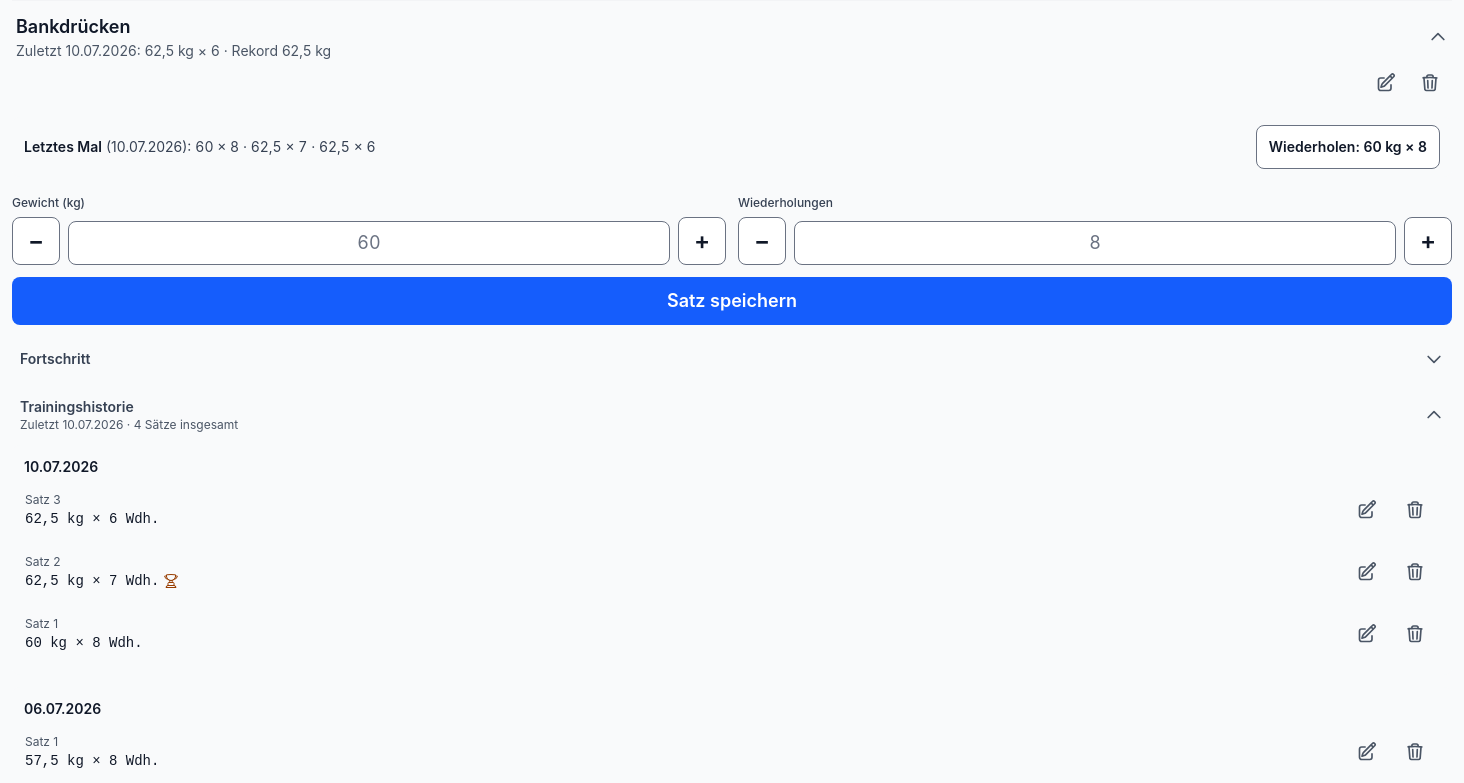
Test: records and rest timer after saving › celebrates a new record and marks it in the history
The width and height of the screenshot is (1464, 783).
In the field with id "weight-bench": (369, 243) [68,221,670,265], type "65"
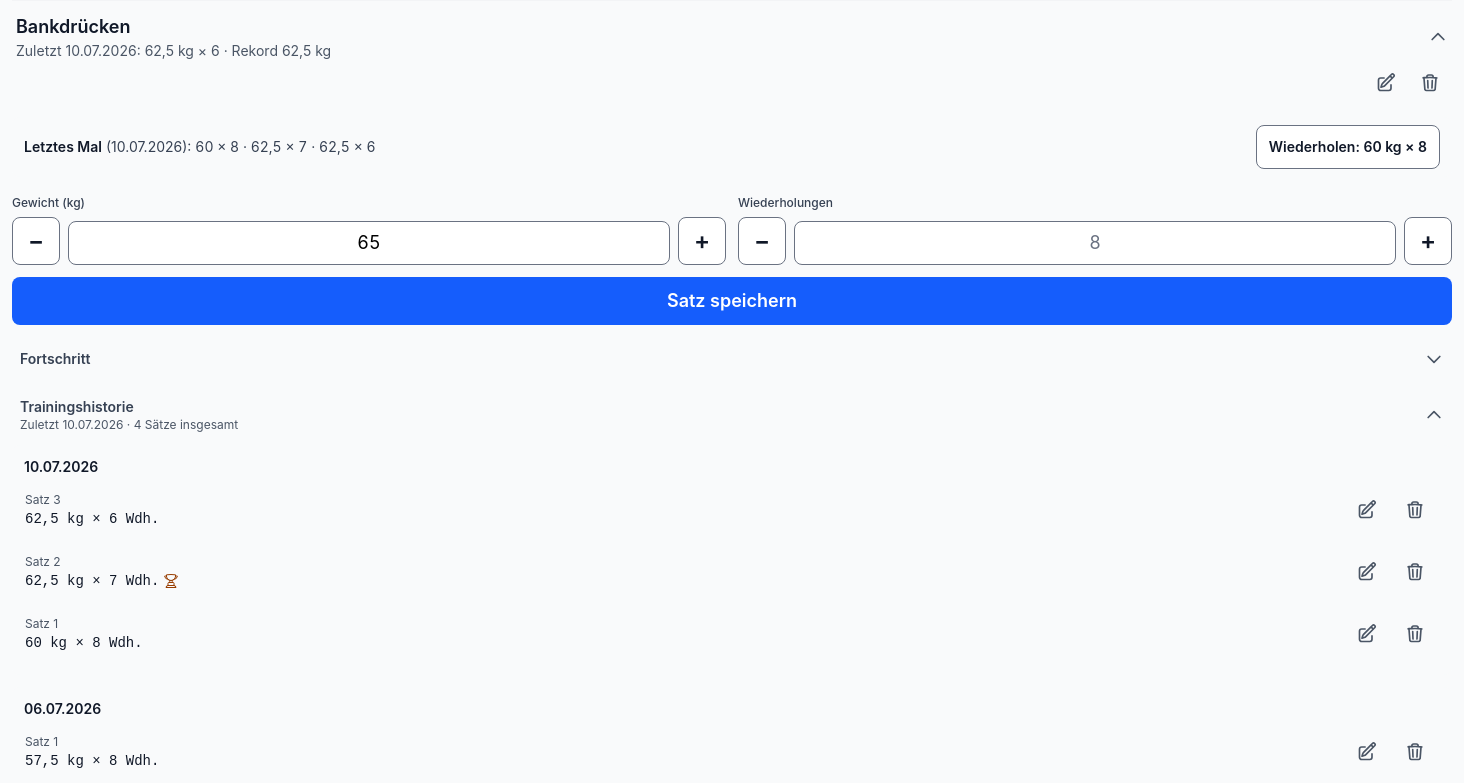
In the field with id "reps-bench": (1095, 243) [794,221,1396,265], type "5"
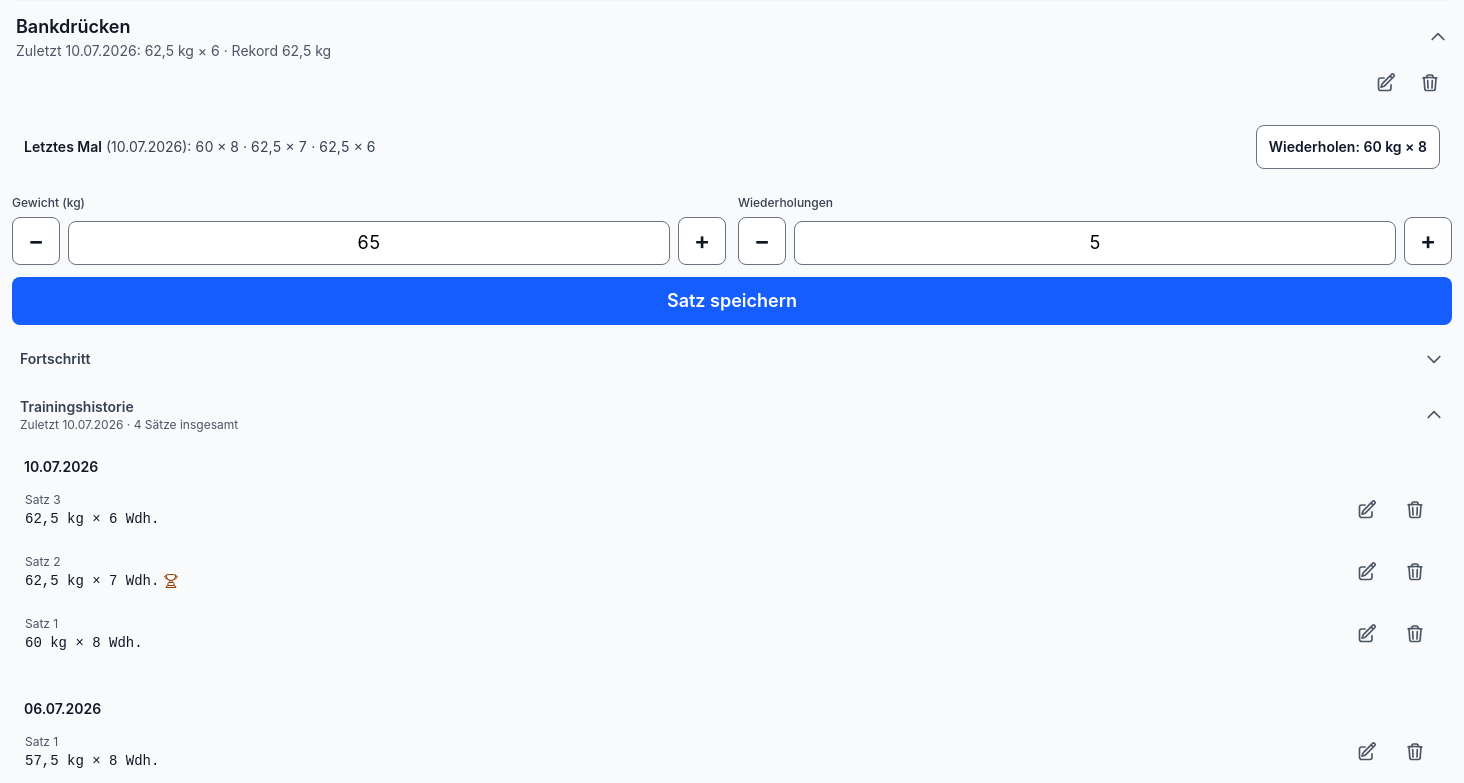
Submit the form, box [12,189,1452,325]
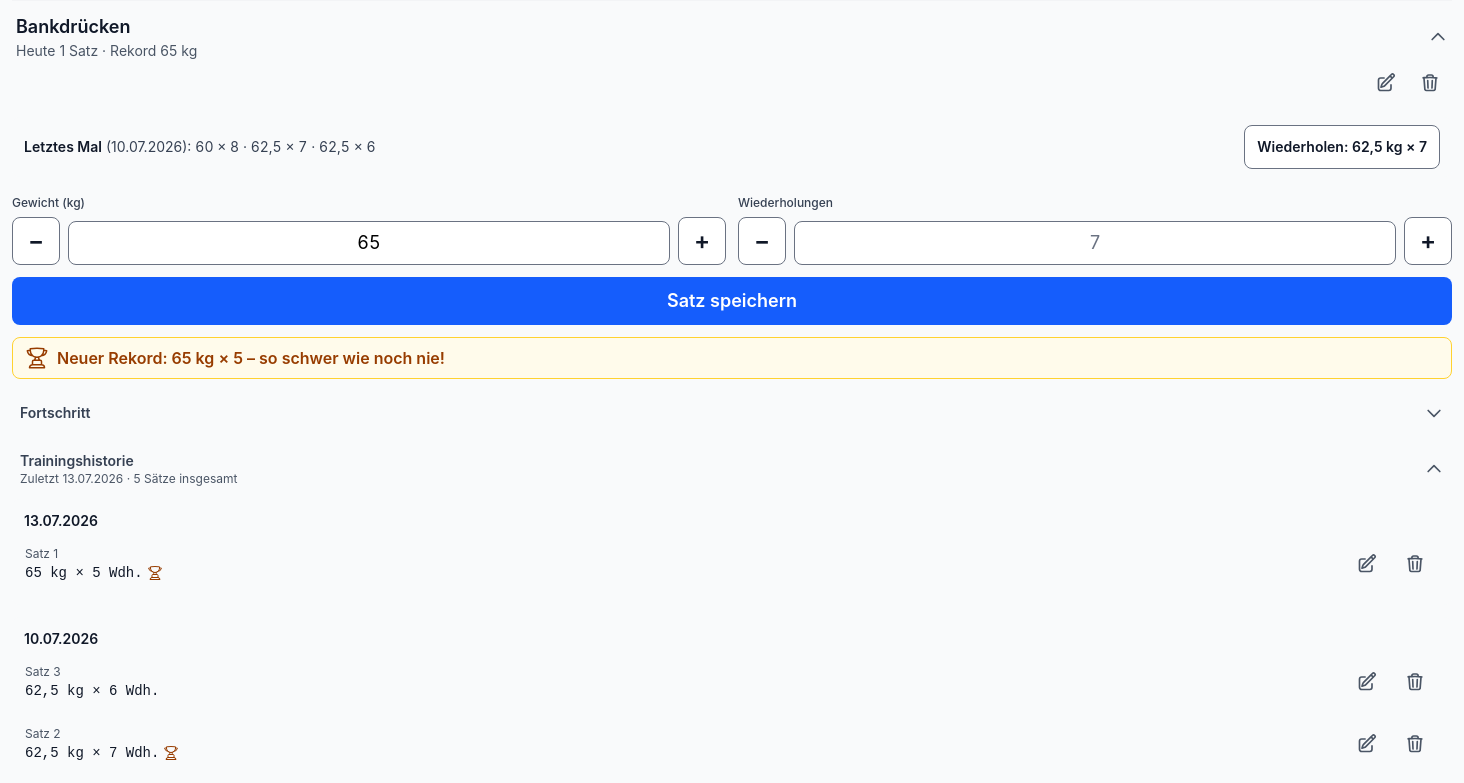
Expected: the text "Neuer Rekord: 65 kg × 5 – so schwer wie noch nie!" is shown, [12,337,1452,379]
